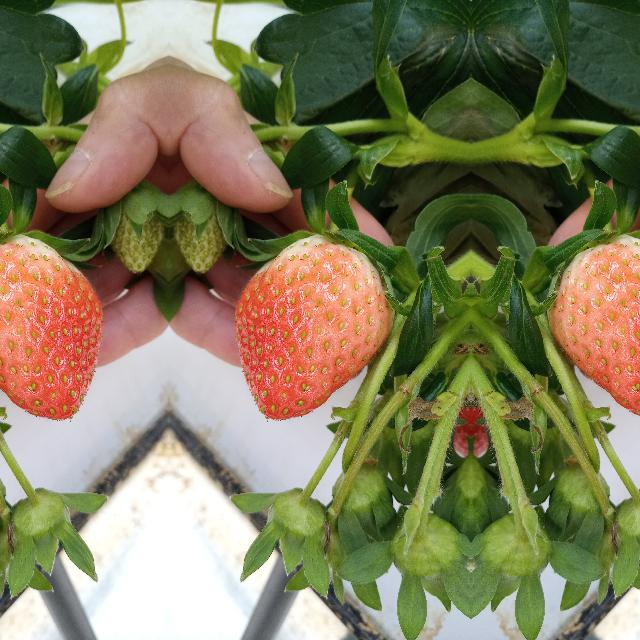Health_100: (232, 233, 396, 421), (0, 233, 103, 421), (545, 233, 640, 421)
